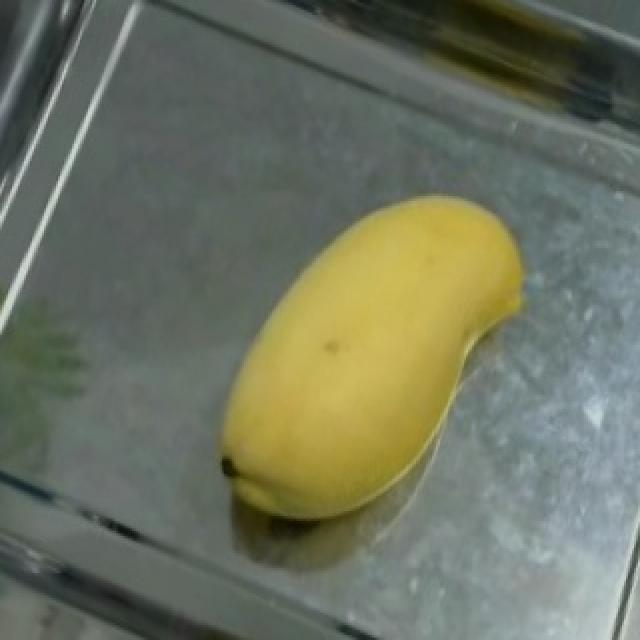fruit: (206, 129, 576, 541)
